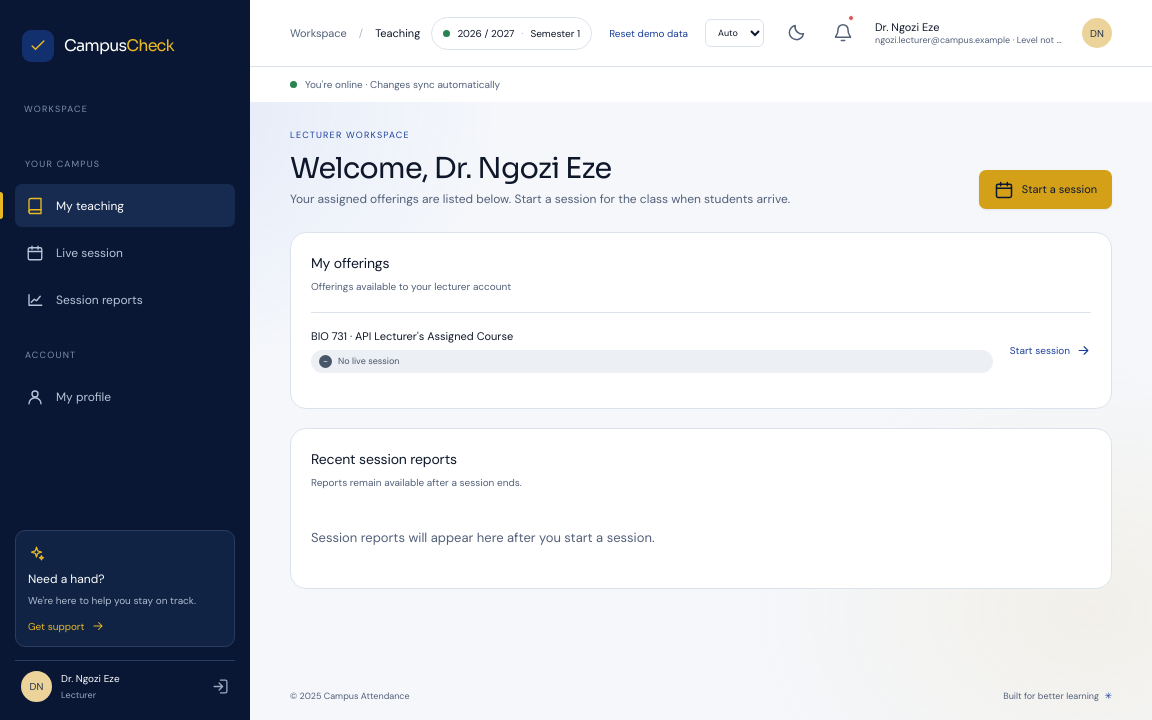
Test: Campus Attendance screens › shows only API offerings assigned to the lecturer and starts the selected offering
Expected: the heading "Welcome, Dr. Ngozi Eze" is shown, [290,150,611,186]
Expected: the text "BIO 731 · API Lecturer's Assigned Course" is shown, [311,329,513,343]
Click the link with aria-label "Start BIO 731 · API Lecturer's Assigned Course session".
click(1050, 351)  # box [1010,343,1091,358]
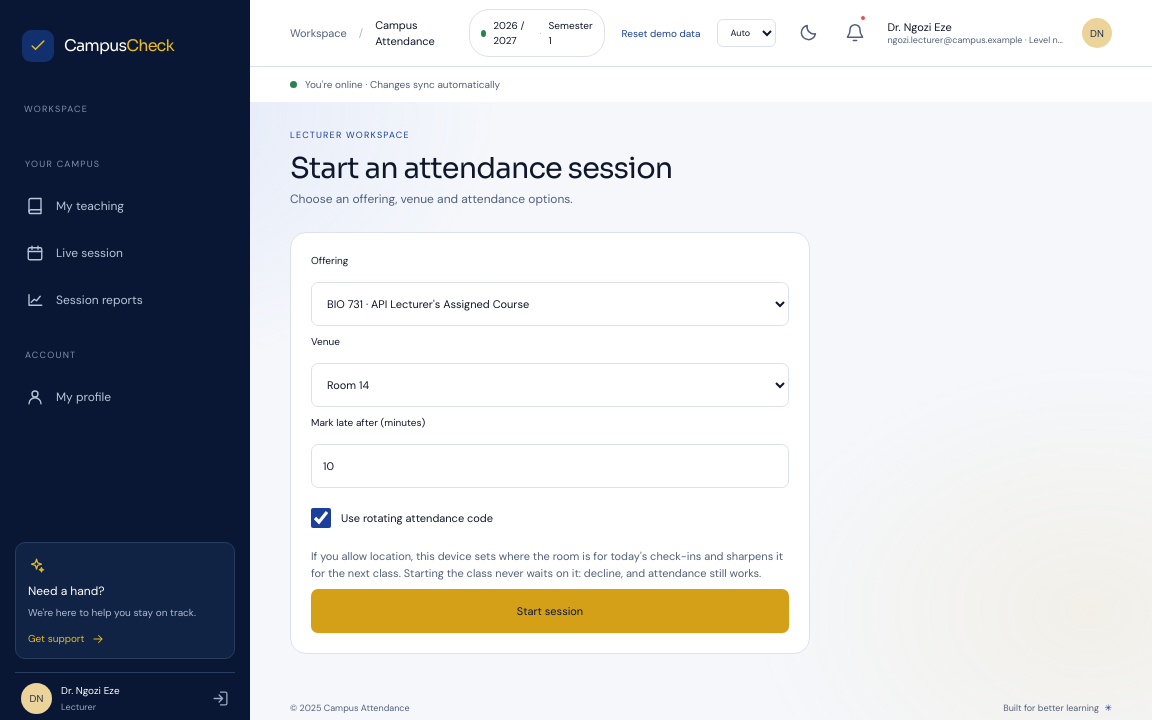
Now the dropdown labelled "Offering" shows "BIO 731 · API Lecturer's Assigned Course", box [311,282,789,326]
